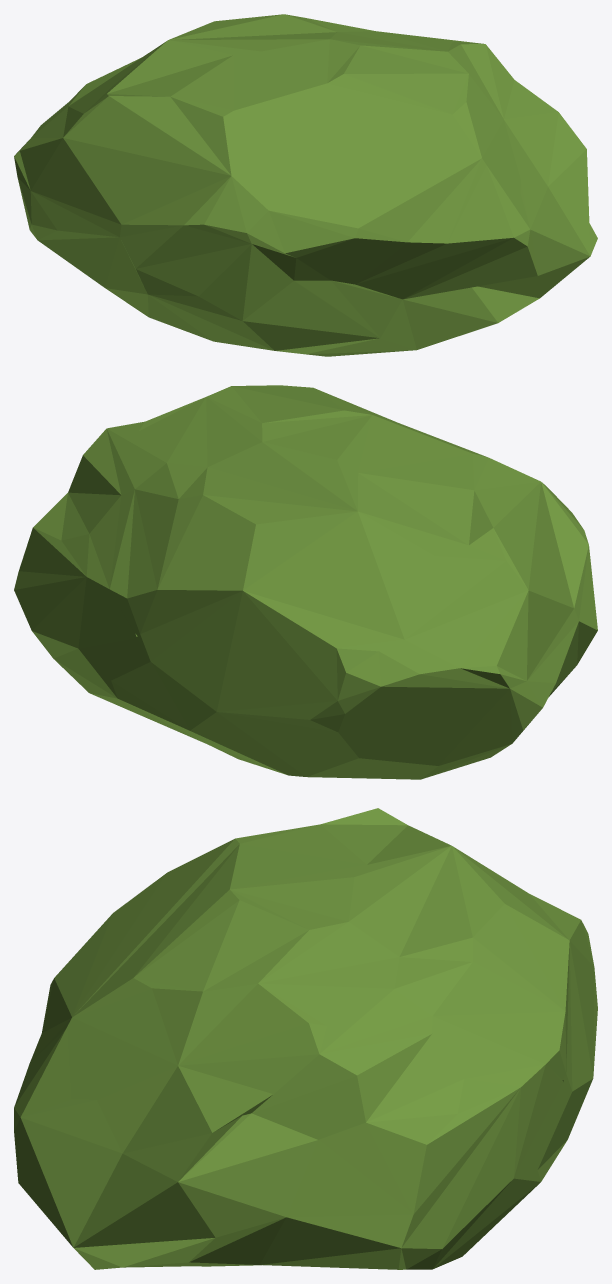
The model's file is moss_1object.fbx.
3 views of the same model, one above another, from view 1: azimuth 30°, elevation 25°; view 2: azimuth 150°, elevation 25°; view 3: azimuth 270°, elevation 25° (orthographic). The views are drawn at different scales.
Parts seen in each view (by area): view 1: Group63459.014; view 2: Group63459.014; view 3: Group63459.014.
Boxes of the visible parts, left/top/right/bottom form: Group63459.014: left=14, top=14, right=597, bottom=356; Group63459.014: left=14, top=385, right=597, bottom=779; Group63459.014: left=14, top=808, right=597, bottom=1269.
Bounding box in the file's own units: 583 × 323 × 495.
